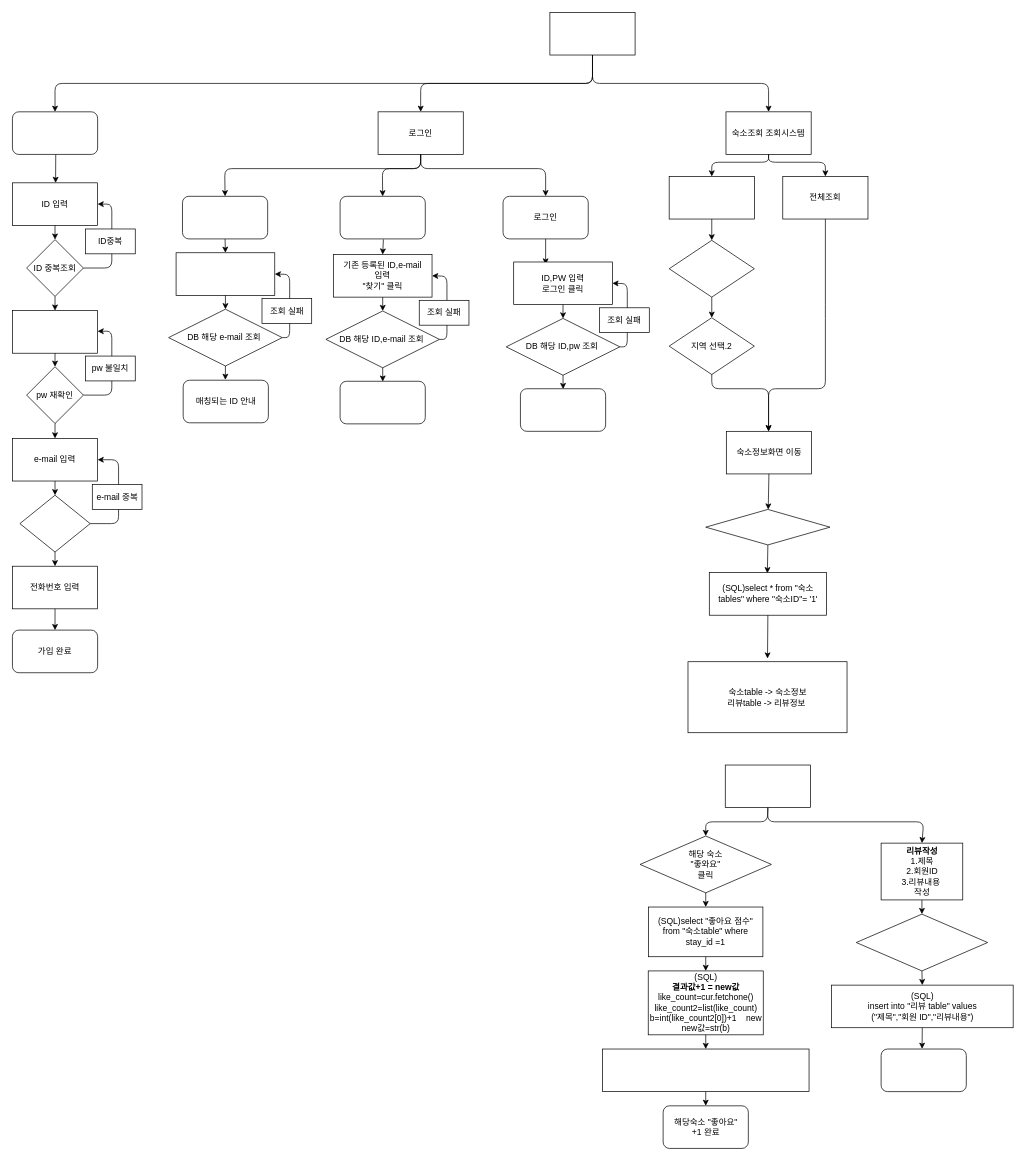
Some shapes in this 1026 by 1161 pixel diagram are drawn without their labels. The shapes that lost their labels are listed below. From the top down, each one's centre as x and y in pixels, then its label:
(592,33): 메인
(55,132): 회원가입
(225,217): 회원 ID 찾기
(382,217): PW 찾기
(711,197): 지역 조회
(225,273): 기존 등록된 e-mail 입력 "찾기" 클릭
(711,268): 지역 선택.1
(55,331): pw 입력
(382,402): 매칭되는 pw 안내
(563,409): 로그인 완료
(54,523): e-mail 중복확인
(767,527): 숙소(stay_id=1) 선택
(767,786): 숙소(stay_id=1)관련 정보 출력
(922,942): 리뷰작성 "등록하기" 클릭
(705,1070): (SQL) update "숙소table" set "좋아요 점수"="new값" where "숙소ID" = '1'
(923,1070): 해당숙소 리뷰작성 완료
